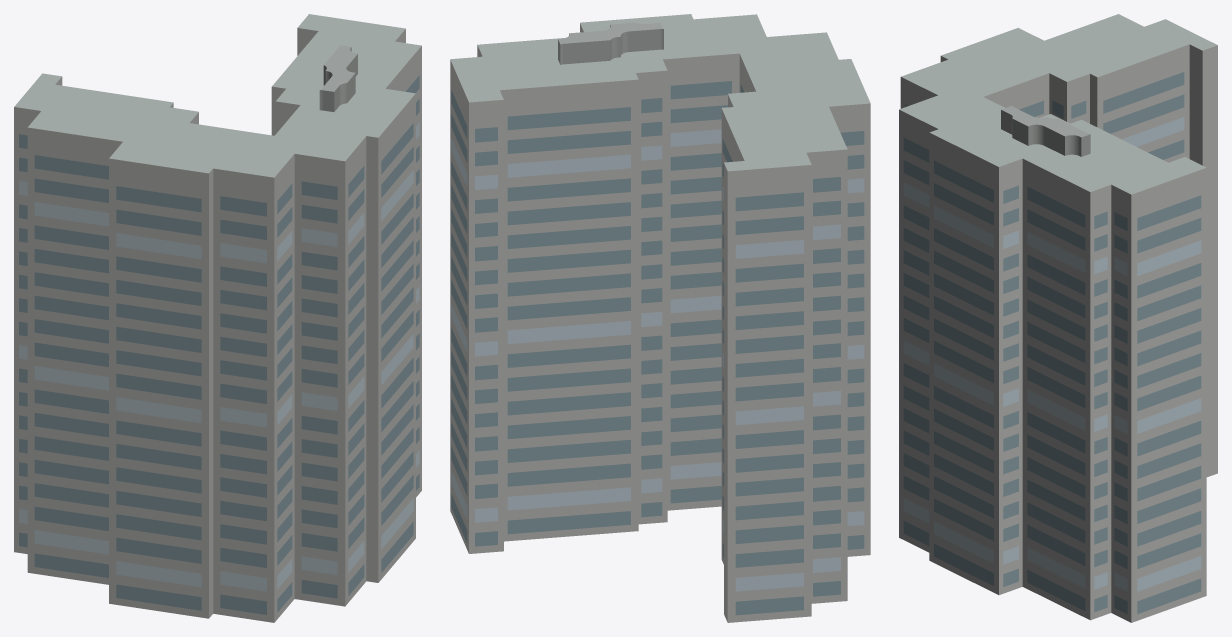
The model's file is fallback-mapo-raemian-prugio-401.glb.
3 views of the same model, side by side, from view 1: azimuth 30°, elevation 25°; view 2: azimuth 150°, elevation 25°; view 3: azimuth 270°, elevation 25° (orthographic). The views are drawn at different scales.
Visible parts, largest first — view 1: fallback-mapo-raemian-prugio-401; view 2: fallback-mapo-raemian-prugio-401; view 3: fallback-mapo-raemian-prugio-401.
Part boxes in pixels (<box>): fallback-mapo-raemian-prugio-401: <box>14,14,421,622</box>; fallback-mapo-raemian-prugio-401: <box>450,14,870,622</box>; fallback-mapo-raemian-prugio-401: <box>899,14,1217,622</box>.
Bounding box in the file's own units: 47.61 × 55 × 35.51.
